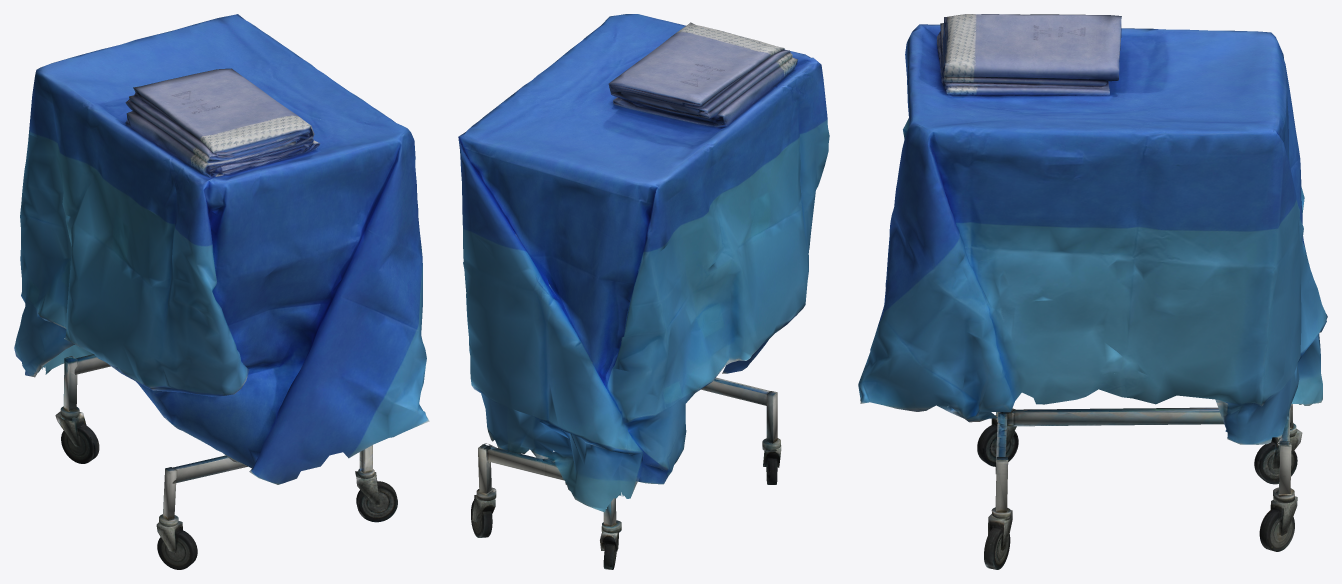
The model's file is table_sterile_1.glb.
The picture shows the model from 3 angles, left to right: view 1: azimuth 30°, elevation 25°; view 2: azimuth 150°, elevation 25°; view 3: azimuth 270°, elevation 25°; orthographic projection. The views are drawn at different scales.
Visible parts, largest first — view 1: Object_3; view 2: Object_3; view 3: Object_3.
Boxes of the visible parts, x1,y1,x2,y2 form: Object_3: (14,14,429,569); Object_3: (458,14,829,569); Object_3: (858,14,1327,569).
Size of the model in its own units: 0.6256 by 0.9972 by 0.9246.
Materials: 1 (1 with a texture image).
